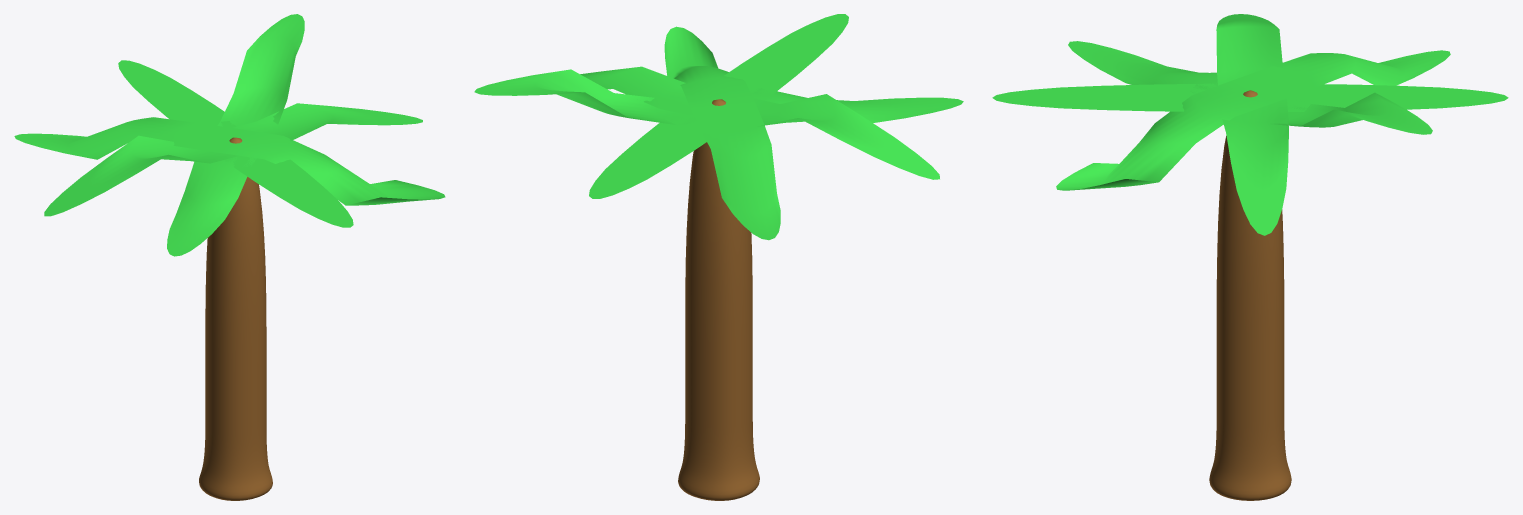
Rendered from palmier.glb.
The picture shows the model from 3 angles, left to right: view 1: azimuth 30°, elevation 25°; view 2: azimuth 150°, elevation 25°; view 3: azimuth 270°, elevation 25°; orthographic projection. The views are drawn at different scales.
Visible parts, largest first — view 1: Cube, Plan.003, Plan.001, Plan.002, Plan; view 2: Cube, Plan.003, Plan, Plan.002, Plan.001; view 3: Cube, Plan.003, Plan.002, Plan, Plan.001.
Boxes of the visible parts, x1,y1,x2,y2 form: Cube: [199, 137, 272, 500]; Plan.003: [14, 117, 445, 205]; Plan.001: [167, 14, 304, 256]; Plan.002: [44, 103, 422, 216]; Plan: [118, 60, 353, 227]; Cube: [678, 99, 759, 500]; Plan.003: [664, 26, 780, 240]; Plan: [589, 14, 848, 198]; Plan.002: [580, 66, 939, 179]; Plan.001: [474, 69, 963, 124]; Cube: [1209, 90, 1291, 500]; Plan.003: [1056, 50, 1450, 190]; Plan.002: [1216, 14, 1288, 235]; Plan: [992, 83, 1508, 111]; Plan.001: [1068, 41, 1432, 134].
Size of the model in its own units: 13.75 by 12.93 by 13.99.
